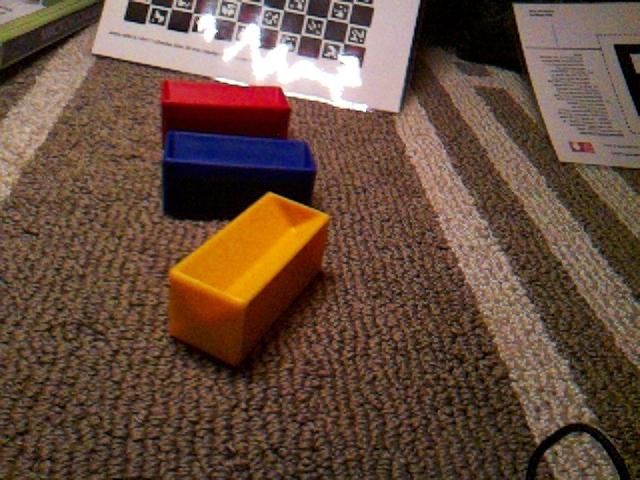blue: (160, 128, 318, 221)
red: (159, 77, 293, 142)
yellow: (167, 190, 331, 367)
